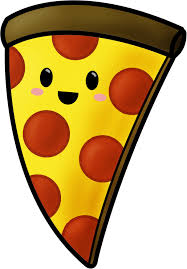pizza: (2, 12, 180, 264)
